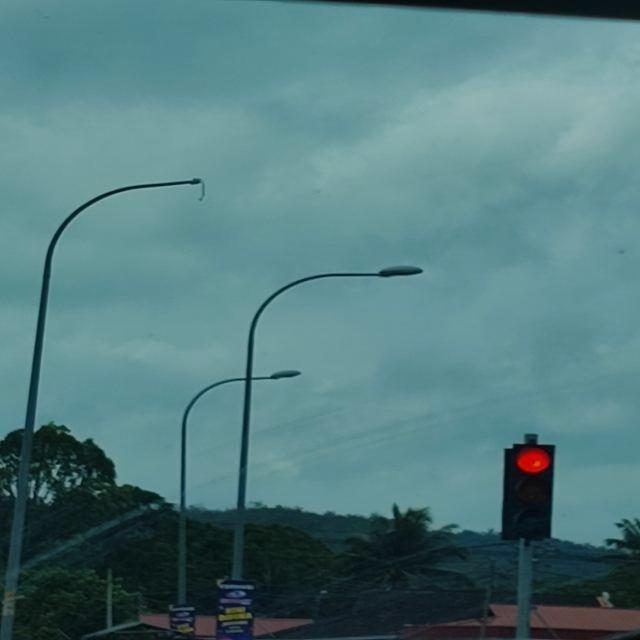Red: (506, 444, 556, 538)
